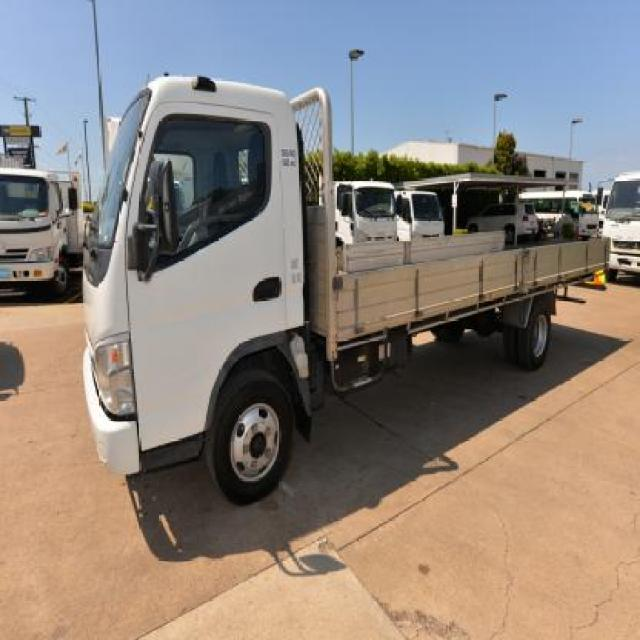truck: (83, 72, 614, 507)
